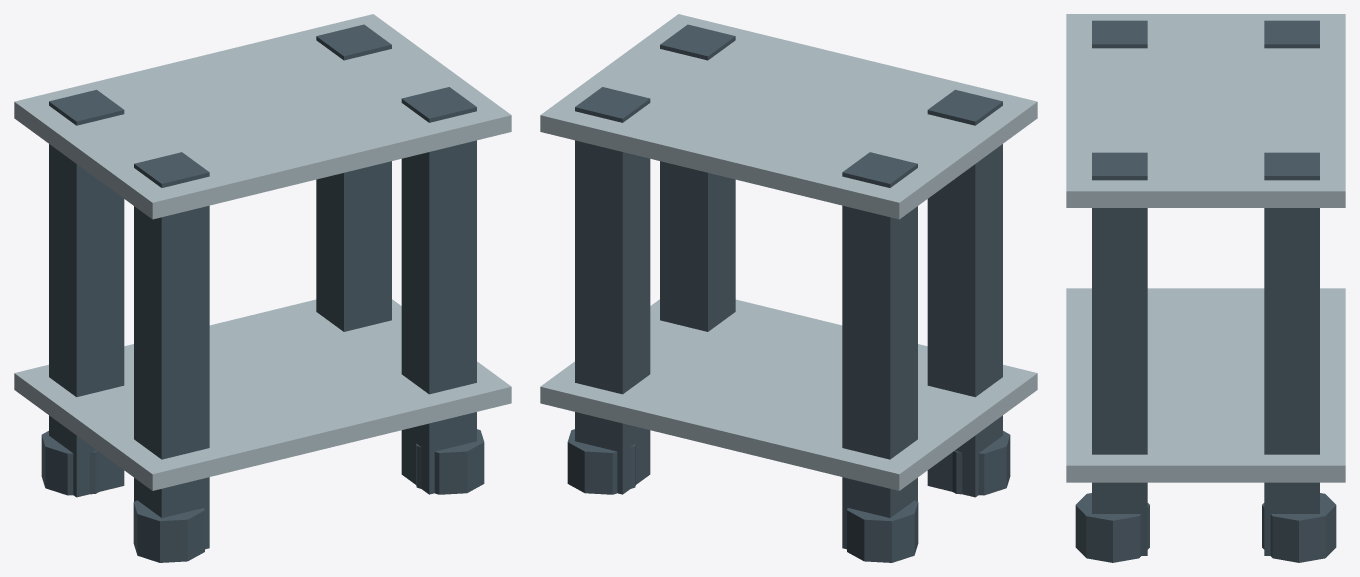
The model's file is two-shelf-service-cart.glb.
3 renders of one model, left to right at view 1: azimuth 30°, elevation 25°; view 2: azimuth 150°, elevation 25°; view 3: azimuth 270°, elevation 25°, orthographic.
Parts seen in each view (by area): view 1: steel, dark; view 2: steel, dark; view 3: steel, dark.
Boxes of the visible parts, x1,y1,x2,y2 form: steel: (14, 14, 511, 490); dark: (41, 24, 484, 562); steel: (540, 14, 1037, 490); dark: (567, 24, 1010, 562); steel: (1066, 14, 1345, 482); dark: (1075, 20, 1336, 562).
Bounding box in the file's own units: 0.9 × 0.9 × 0.6.
